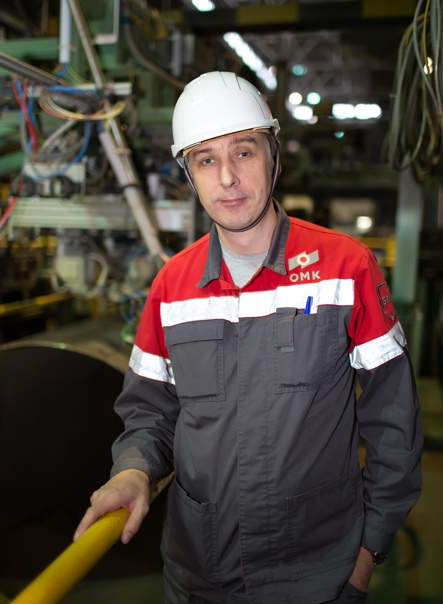person: (73, 70, 423, 604)
